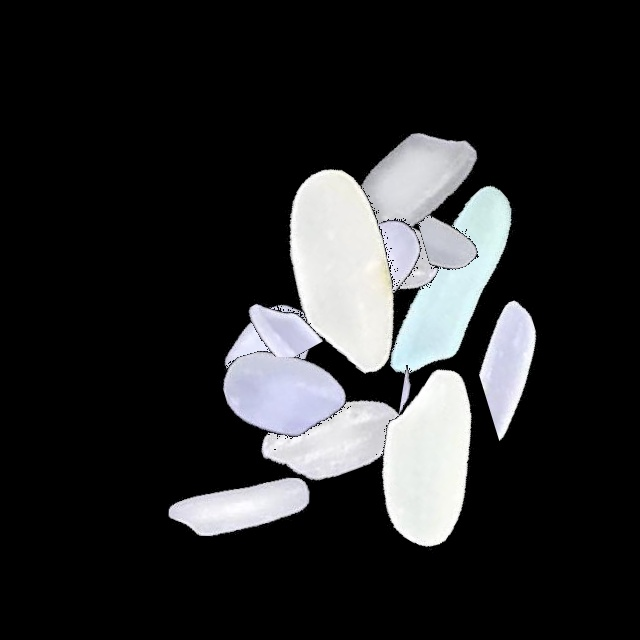Broken: (168, 345, 418, 514), (173, 190, 335, 440), (478, 239, 614, 489), (416, 82, 537, 332), (322, 357, 572, 451), (157, 263, 407, 357), (129, 360, 379, 453)
Full: (327, 162, 577, 412), (208, 312, 458, 562), (112, 380, 362, 630), (245, 132, 495, 382), (289, 60, 539, 310), (244, 143, 494, 393), (307, 329, 557, 579), (224, 142, 474, 392)
